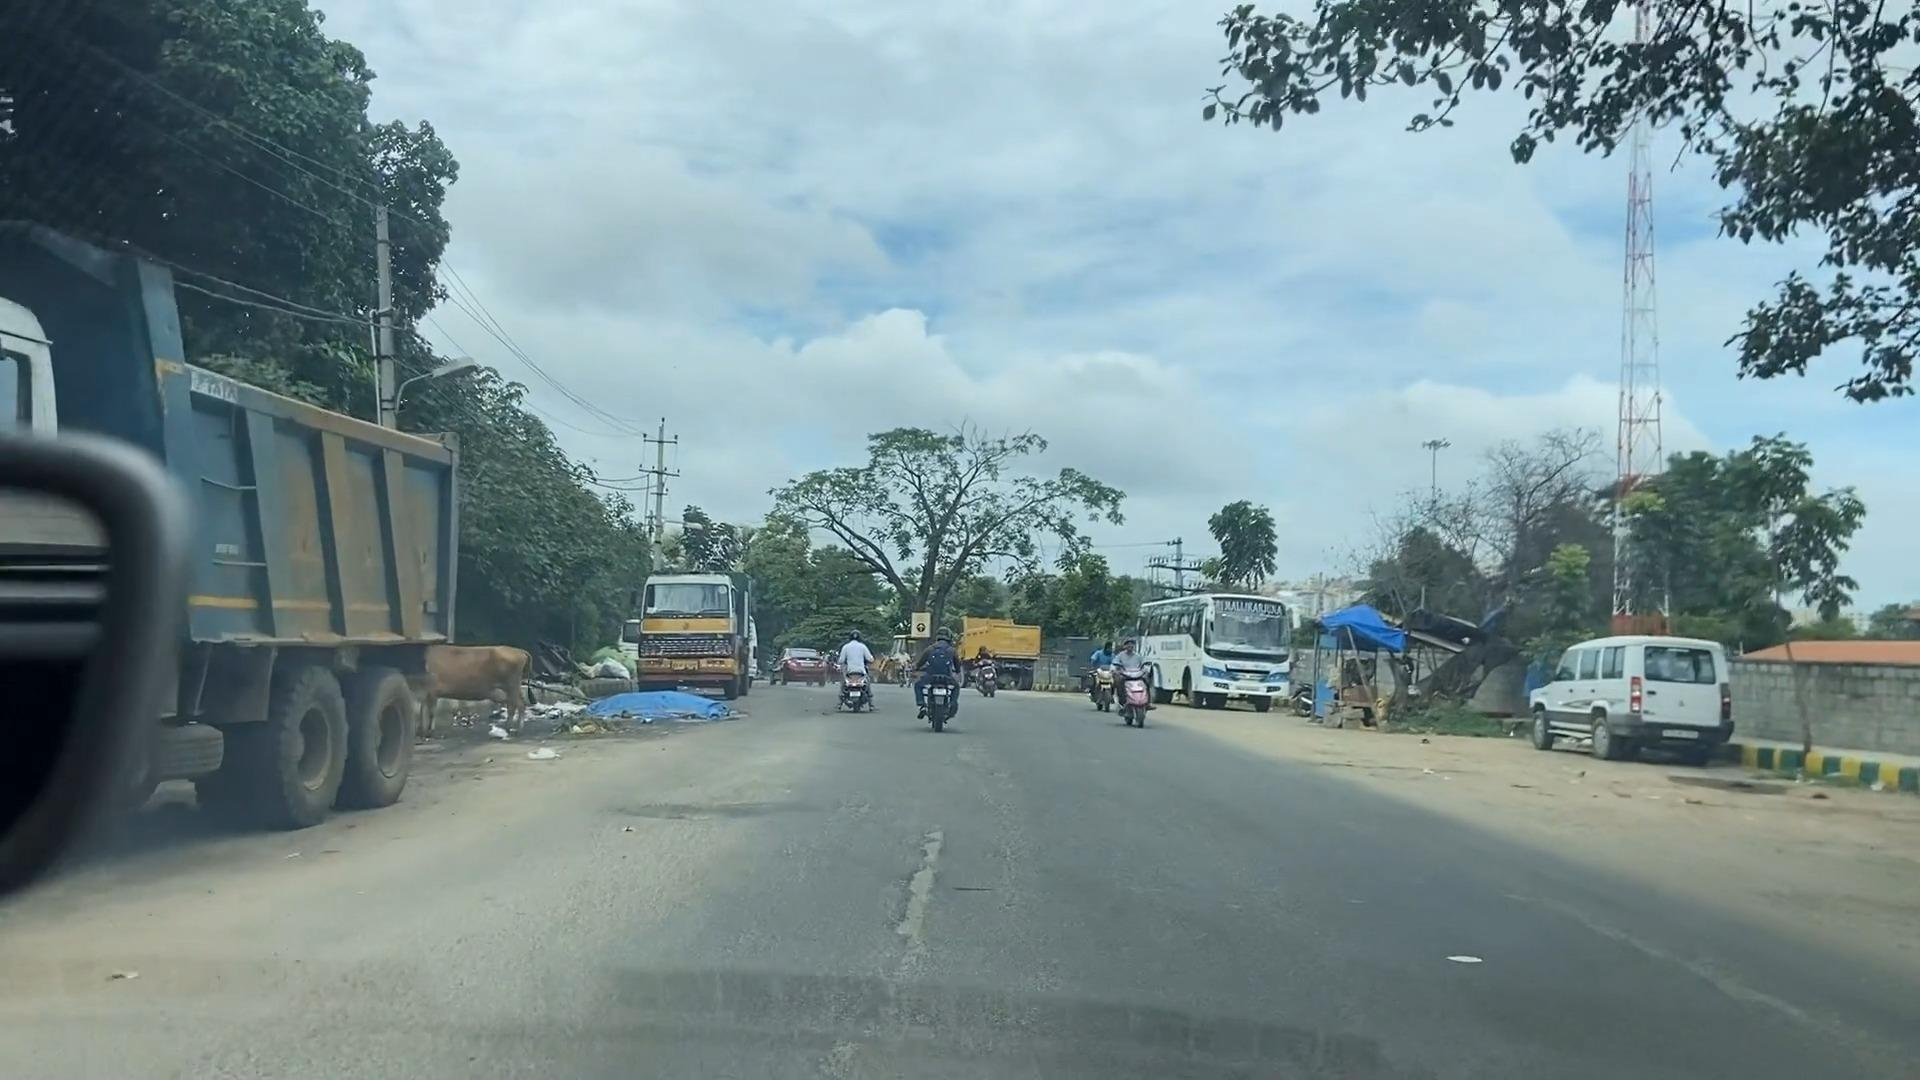HMV: (0, 198, 484, 843), (1104, 550, 1308, 723), (629, 518, 752, 700), (940, 591, 1047, 707)
LMV: (1509, 597, 1742, 795), (884, 549, 1023, 799), (811, 601, 885, 736), (1112, 616, 1176, 746), (1072, 615, 1117, 727), (972, 634, 1006, 703)
RoadDamages: (893, 789, 961, 942)
